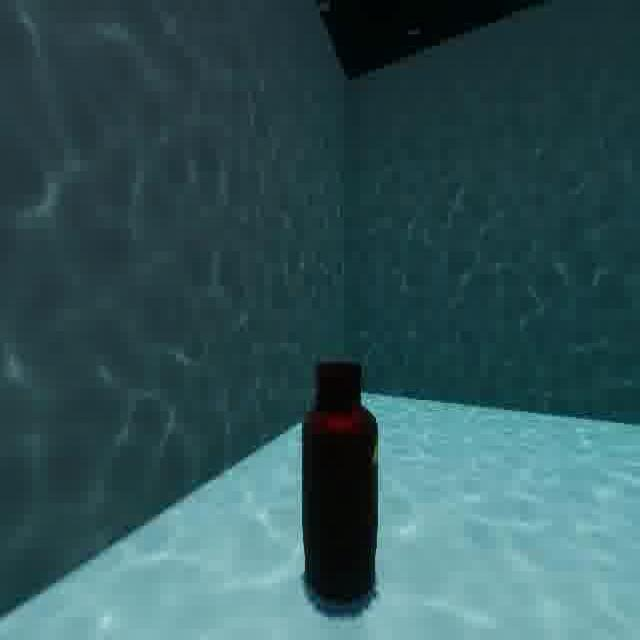Cylinder: (297, 339, 389, 616)
